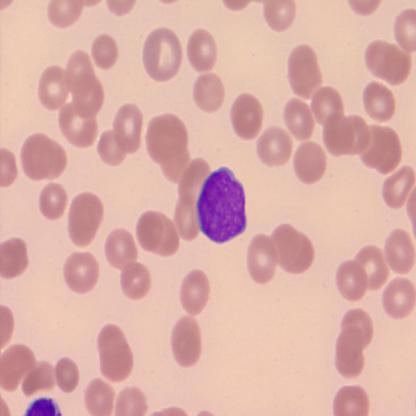Blast: (195, 163, 249, 246)
